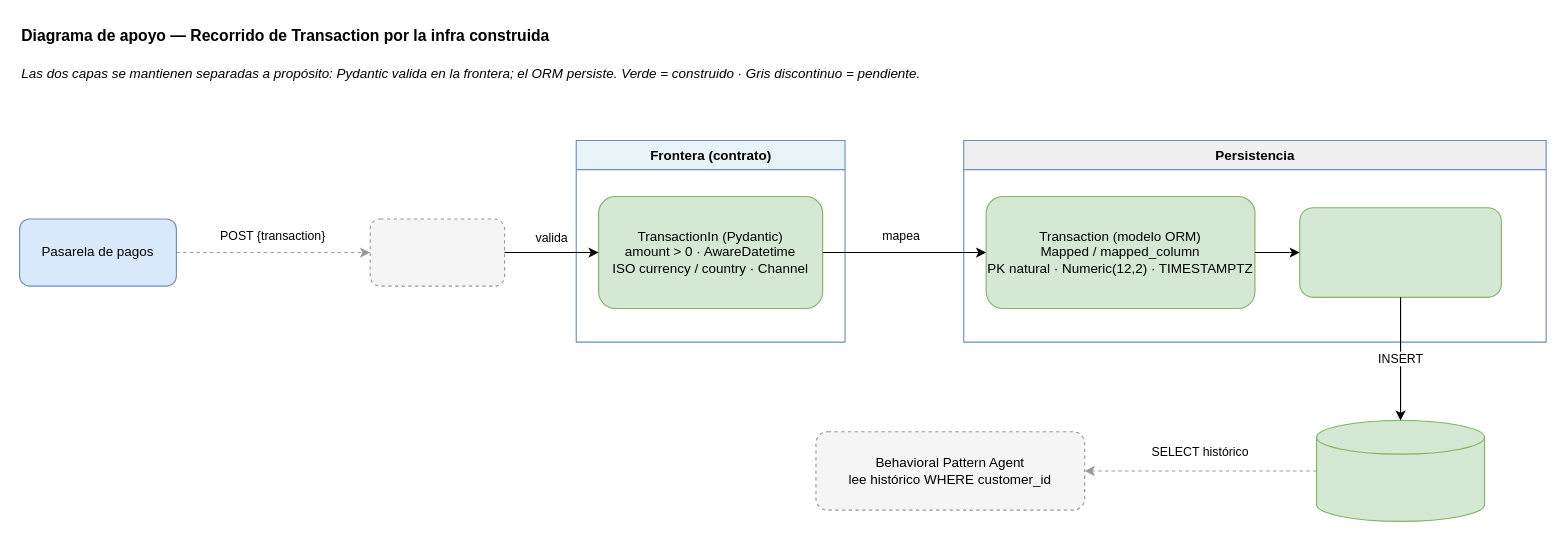
This 1566x541 diagram has some shape labels left out. Each missing label, with the centre of its shape:
"Async session INSERT" goes at (x=1400, y=252).
"POST /cases" goes at (x=437, y=252).
"tabla transactions (Postgres + pgvector)" goes at (x=1400, y=470).
